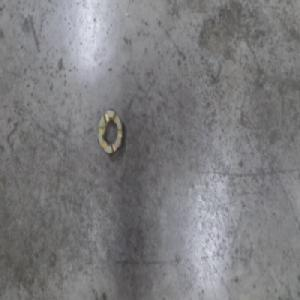Nut: (95, 106, 124, 157)
